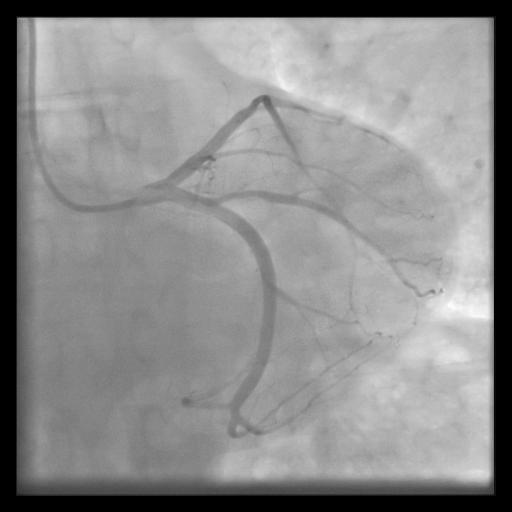Stenosis: (223, 187, 272, 200)
